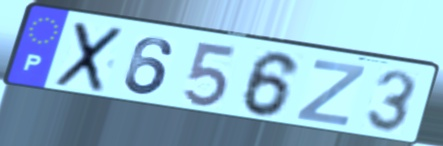3: (364, 68, 420, 136)
5: (180, 39, 242, 109)
6: (241, 50, 300, 119), (123, 35, 175, 97)
X: (51, 20, 128, 95)
Z: (292, 57, 370, 129)
